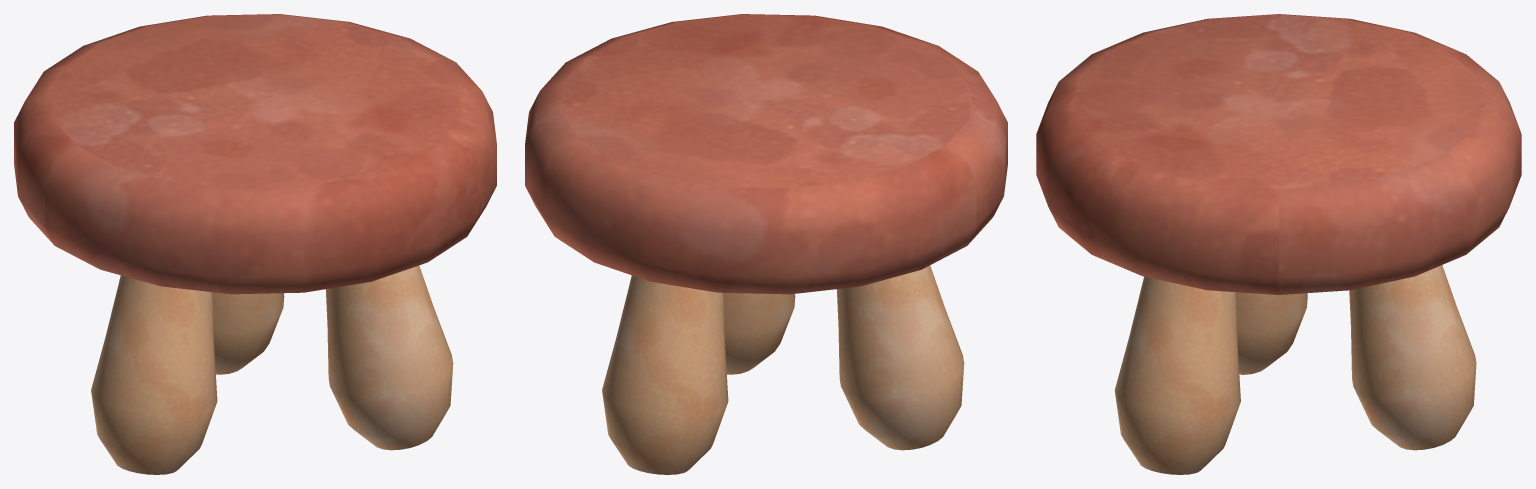
Rendered from SM_Stool.fbx.
The picture shows the model from 3 angles, left to right: view 1: azimuth 30°, elevation 25°; view 2: azimuth 150°, elevation 25°; view 3: azimuth 270°, elevation 25°; orthographic projection.
Parts seen in each view (by area): view 1: SM_Stool; view 2: SM_Stool; view 3: SM_Stool.
Part boxes in pixels (<box>): SM_Stool: <box>14,14,496,474</box>; SM_Stool: <box>525,14,1007,474</box>; SM_Stool: <box>1036,14,1521,474</box>.
Bounding box in the file's own units: 72.7 × 53.35 × 72.7.
Materials: 1 (1 with a texture image).
